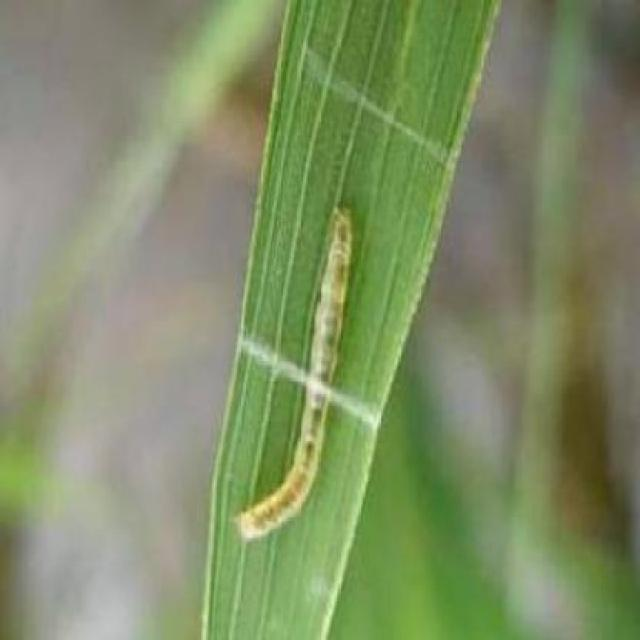leaf-folder: (214, 187, 372, 565)
